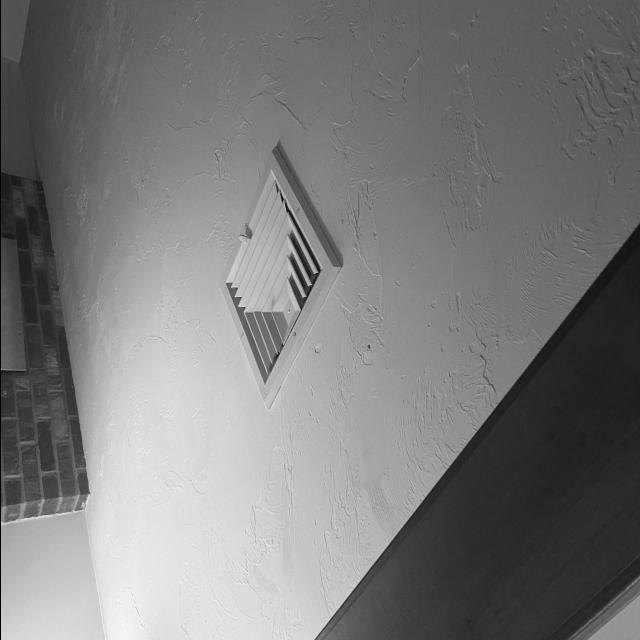pin holes: (361, 338, 382, 359)
